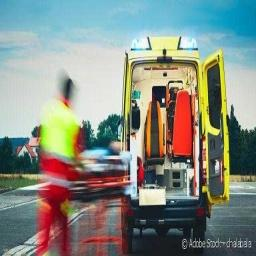ambulance: (119, 37, 228, 252)
